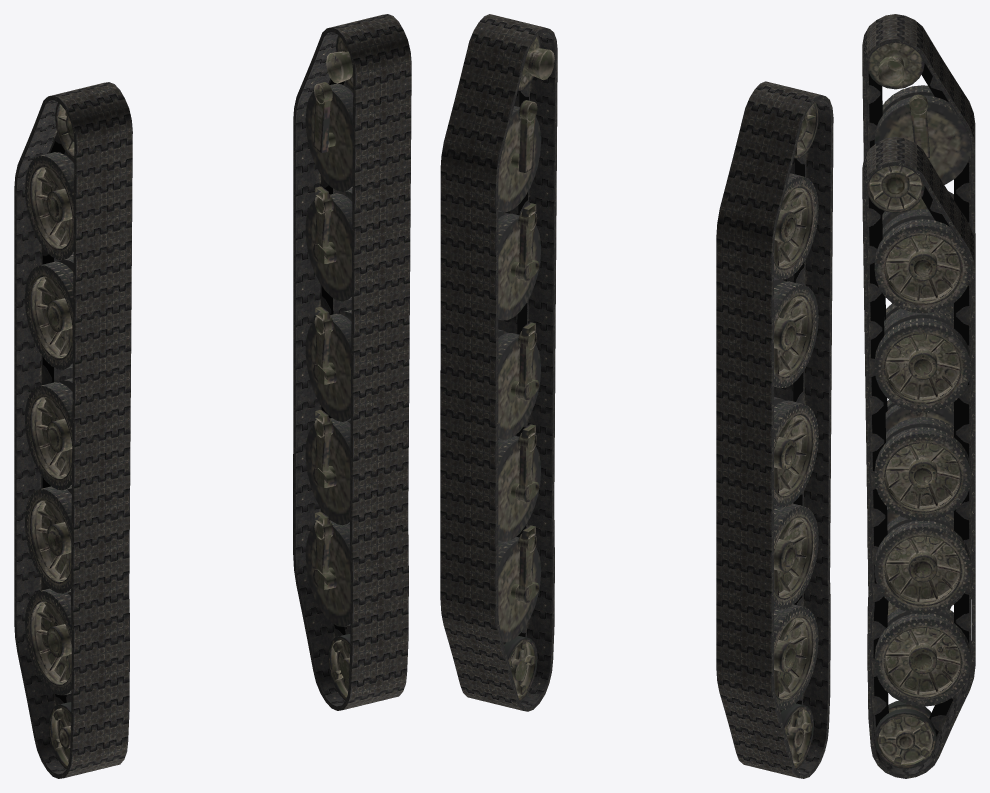
The model's file is Chassis.glb.
The picture shows the model from 3 angles, left to right: view 1: azimuth 30°, elevation 25°; view 2: azimuth 150°, elevation 25°; view 3: azimuth 270°, elevation 25°; orthographic projection. The views are drawn at different scales.
Parts seen in each view (by area): view 1: set_1_group_0, set_0_group_0, set_2_group_0, set_3_group_0; view 2: set_1_group_0, set_0_group_0, set_3_group_0, set_2_group_0; view 3: set_3_group_0, set_1_group_0, set_2_group_0, set_0_group_0.
Boxes of the visible parts, x1,y1,x2,y2 form: set_1_group_0: (293, 14, 411, 710); set_0_group_0: (14, 82, 132, 778); set_2_group_0: (25, 102, 74, 768); set_3_group_0: (305, 35, 353, 700); set_1_group_0: (440, 14, 557, 711); set_0_group_0: (716, 81, 833, 778); set_3_group_0: (498, 35, 554, 701); set_2_group_0: (774, 101, 818, 769); set_3_group_0: (867, 165, 971, 768); set_1_group_0: (862, 137, 975, 778); set_2_group_0: (867, 42, 970, 615); set_0_group_0: (862, 14, 975, 609).
Bounding box in the file's own units: 2.99 × 5.83 × 0.969.
Materials: 4 (4 with a texture image).
